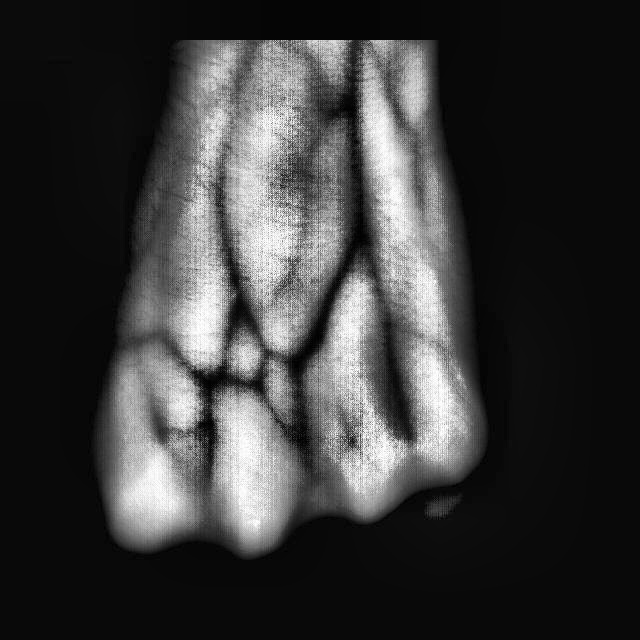Vein: (341, 40, 372, 217)
